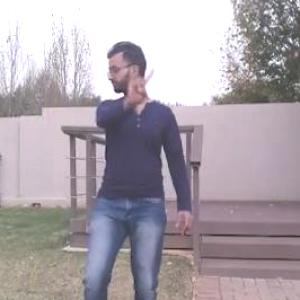takeoff-hand: (123, 57, 156, 105)
